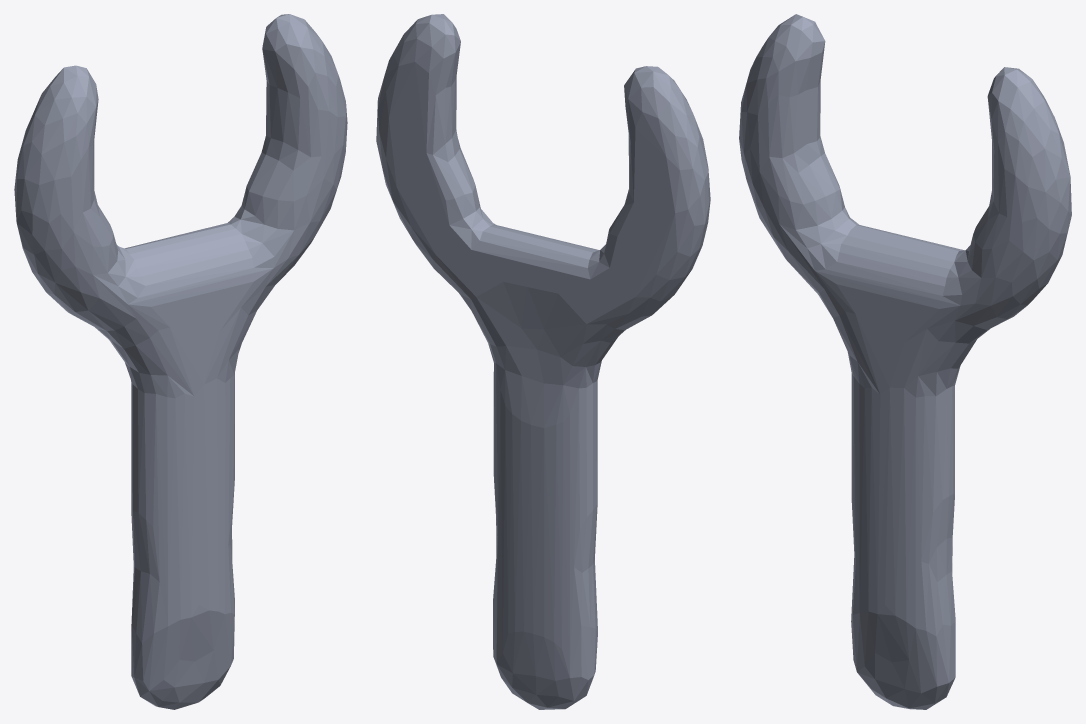
Rendered from wrench.gltf.
The picture shows the model from 3 angles, left to right: view 1: azimuth 30°, elevation 25°; view 2: azimuth 150°, elevation 25°; view 3: azimuth 330°, elevation 25°; orthographic projection.
Parts seen in each view (by area): view 1: 193480_23_02_06_20_40_16; view 2: 193480_23_02_06_20_40_16; view 3: 193480_23_02_06_20_40_16.
Boxes of the visible parts, <box> form: 193480_23_02_06_20_40_16: <box>14,14,347,709</box>; 193480_23_02_06_20_40_16: <box>376,14,710,709</box>; 193480_23_02_06_20_40_16: <box>739,14,1071,709</box>.
Size of the model in its own units: 5.42 by 10.61 by 0.9287.
